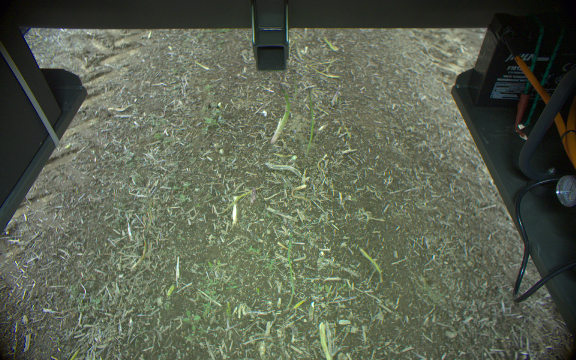aspa: (269, 82, 291, 145), (356, 245, 385, 284), (303, 85, 316, 154), (318, 321, 335, 360), (322, 35, 338, 52), (331, 84, 341, 108)
